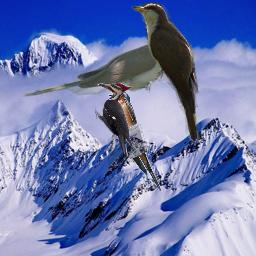Cuckoo: (21, 28, 177, 99), (131, 2, 201, 144)
Swallow: (108, 89, 161, 191)
Woodpecker: (95, 83, 133, 156)
